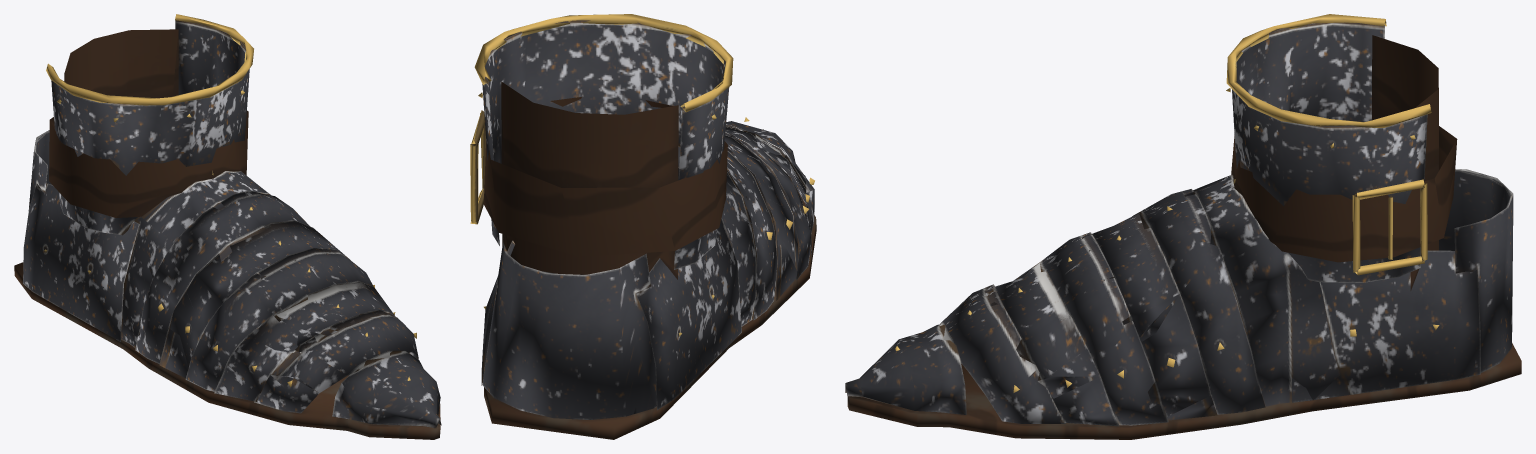
The model's file is SM_EagleSabatons_L_LOD3.fbx.
3 views of the same model, side by side, from view 1: azimuth 30°, elevation 25°; view 2: azimuth 150°, elevation 25°; view 3: azimuth 270°, elevation 25° (orthographic). The views are drawn at different scales.
Visible parts, largest first — view 1: SM_EagleSabatons_L_LOD3; view 2: SM_EagleSabatons_L_LOD3; view 3: SM_EagleSabatons_L_LOD3.
Part boxes in pixels (bbox=[...]): SM_EagleSabatons_L_LOD3: bbox=[14, 14, 441, 439]; SM_EagleSabatons_L_LOD3: bbox=[470, 14, 816, 439]; SM_EagleSabatons_L_LOD3: bbox=[845, 14, 1521, 439].
Size of the model in its own units: 0.135 by 0.1412 by 0.2928.
